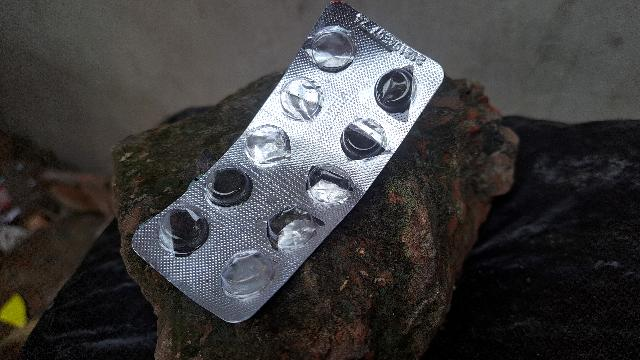medicine: (121, 0, 458, 333)
